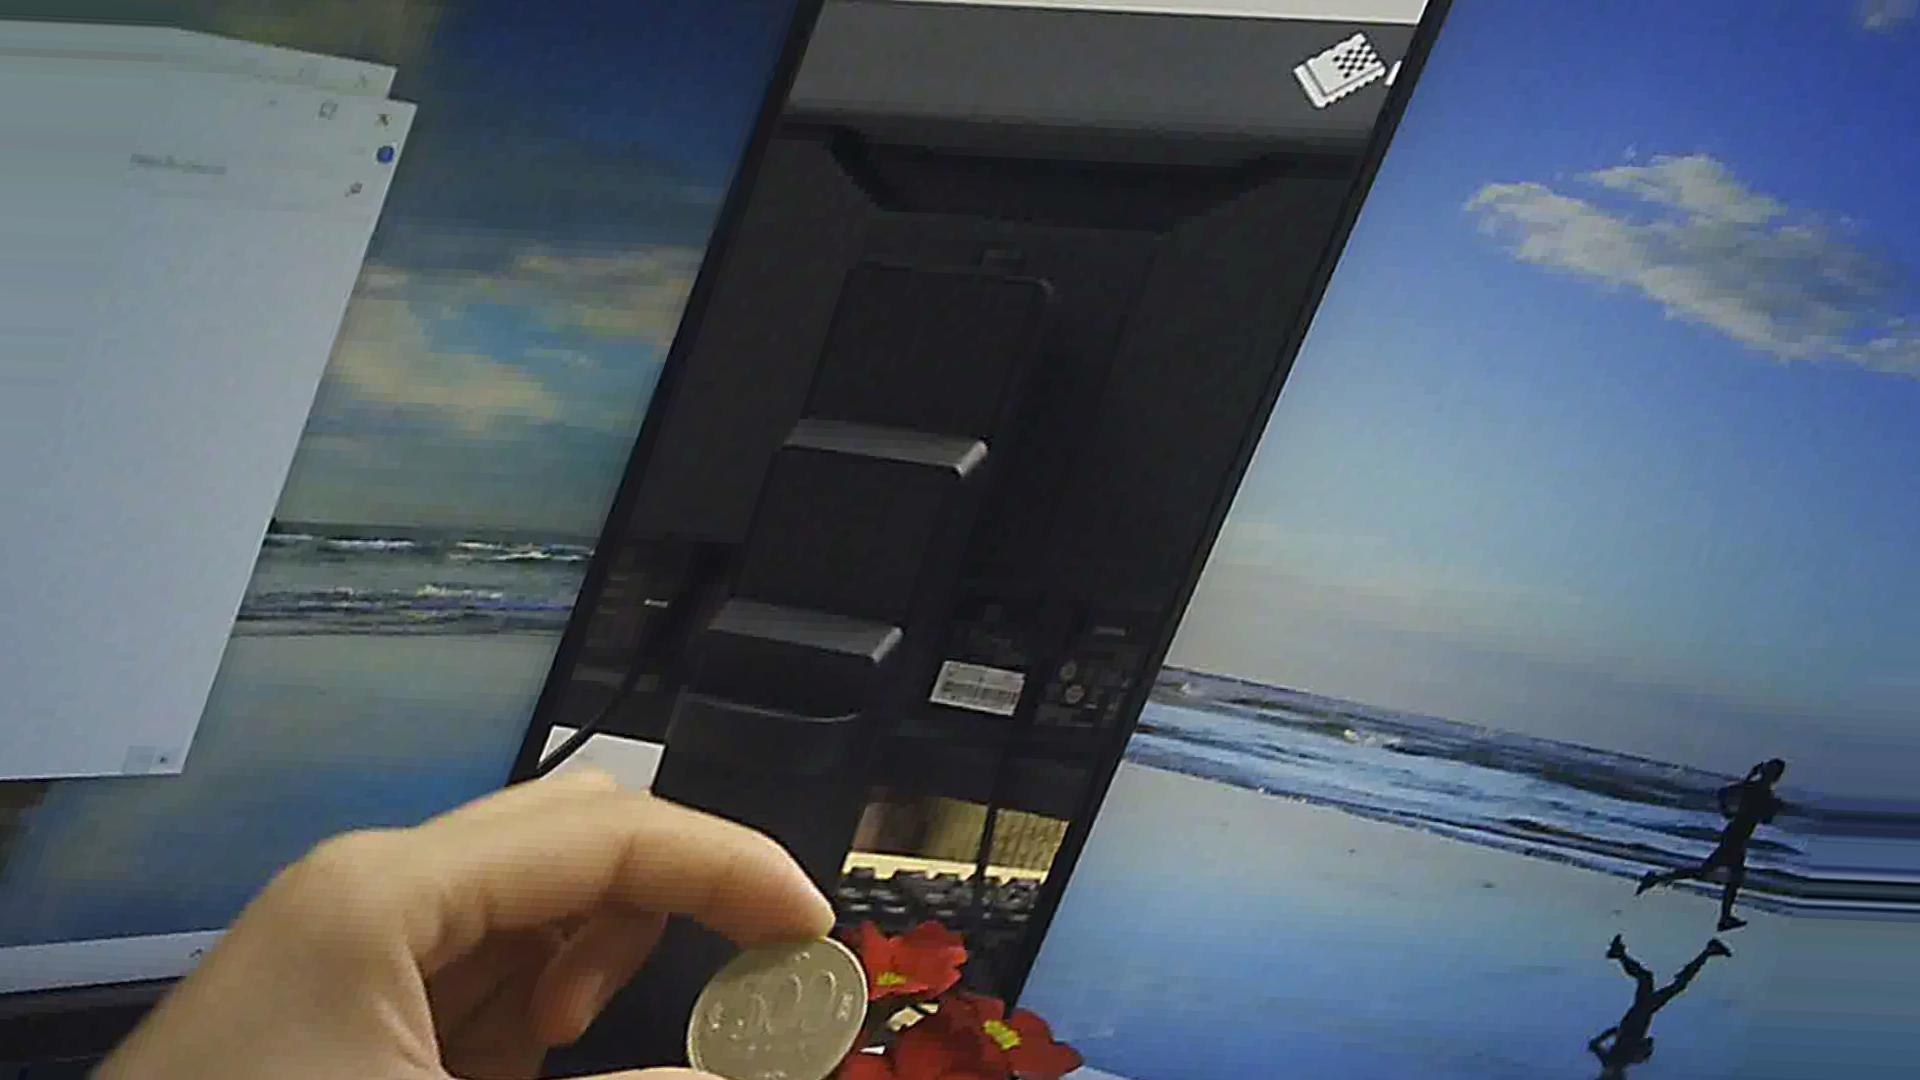500 Yen: (662, 928, 872, 1076)
